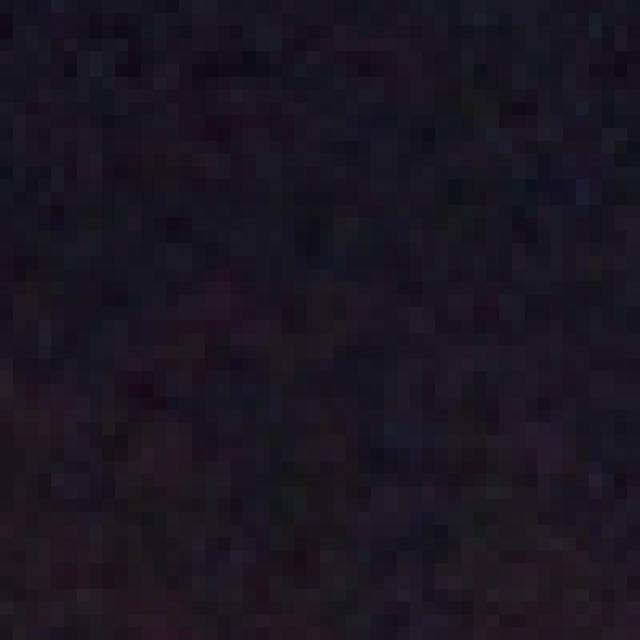no_fire: (33, 54, 640, 640)
